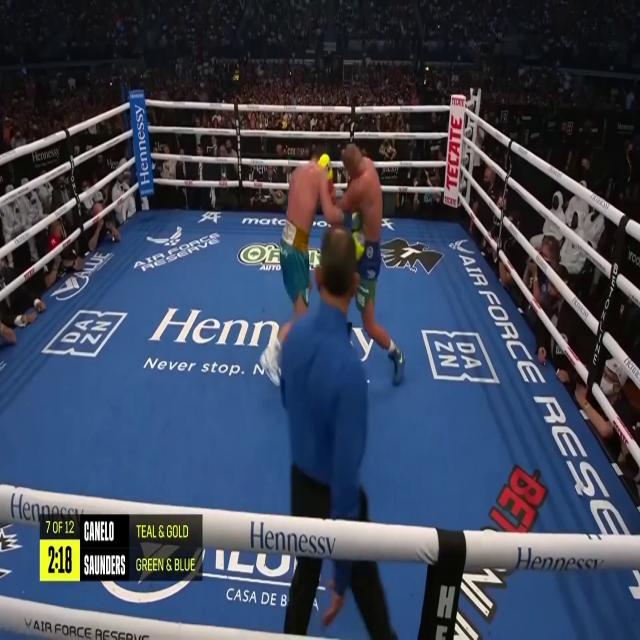boxer_1: (343, 145, 382, 241)
boxer_2: (288, 143, 327, 231)
gloves_1: (318, 154, 333, 194), (354, 233, 365, 261)
gloves_2: (343, 209, 363, 231)
